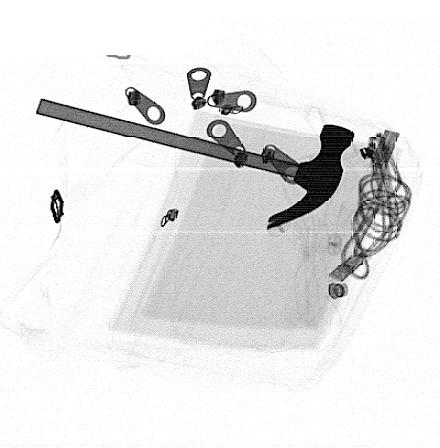Hammer: (34, 97, 357, 231)
